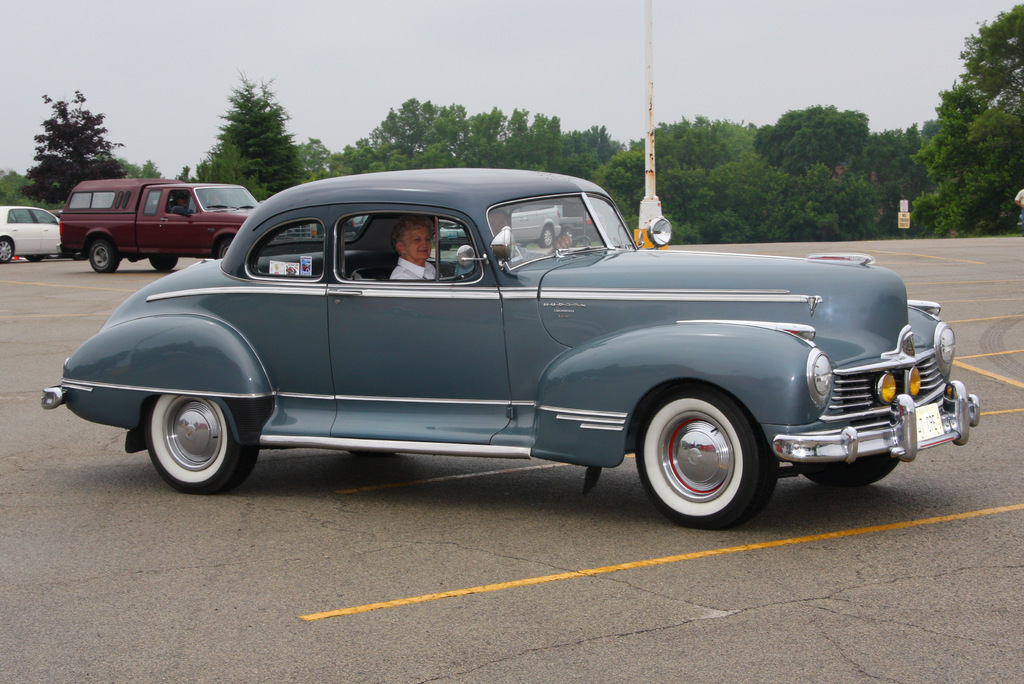Car: (44, 159, 986, 529), (432, 194, 560, 238), (0, 204, 64, 261)
